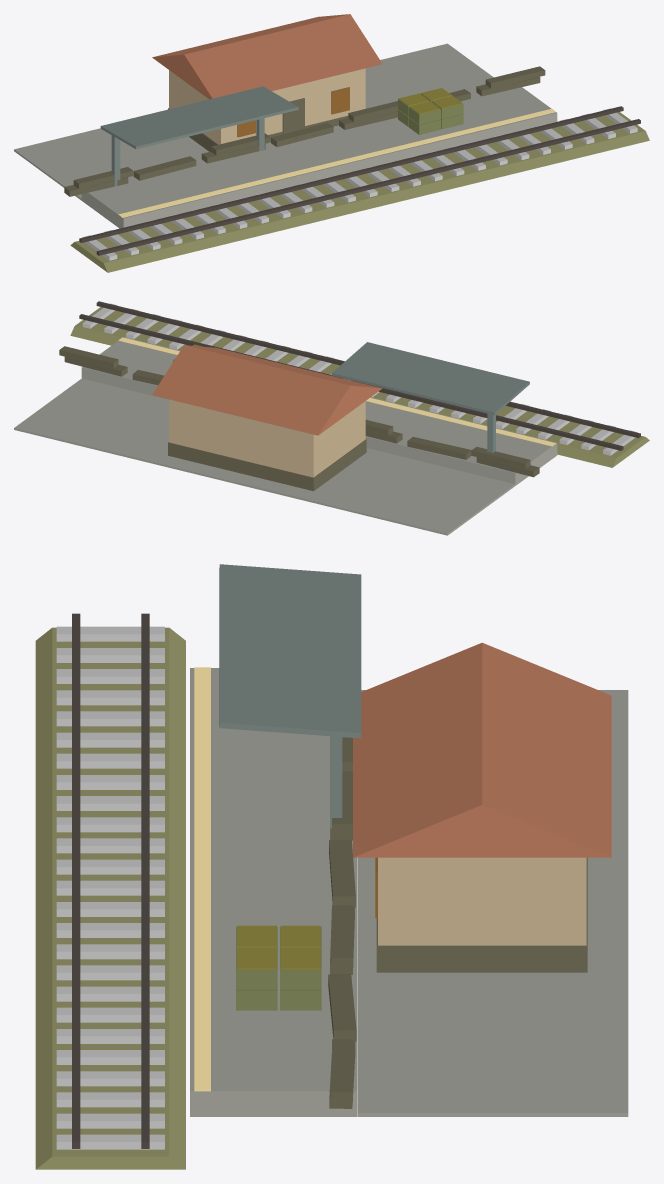
The model's file is SM_EstacionH1_v1_Fortificada_LOD1.fbx.
The picture shows the model from 3 angles, top to bottom: view 1: azimuth 30°, elevation 25°; view 2: azimuth 150°, elevation 25°; view 3: azimuth 270°, elevation 25°; orthographic projection. The views are drawn at different scales.
Parts seen in each view (by area): view 1: SM_estacion_h1_v1_LOD1; view 2: SM_estacion_h1_v1_LOD1; view 3: SM_estacion_h1_v1_LOD1.
Boxes of the visible parts, x1,y1,x2,y2 form: SM_estacion_h1_v1_LOD1: [14, 14, 649, 272]; SM_estacion_h1_v1_LOD1: [14, 301, 649, 535]; SM_estacion_h1_v1_LOD1: [35, 564, 628, 1169].
Bounding box in the file's own units: 30 × 4.8 × 14.2.
